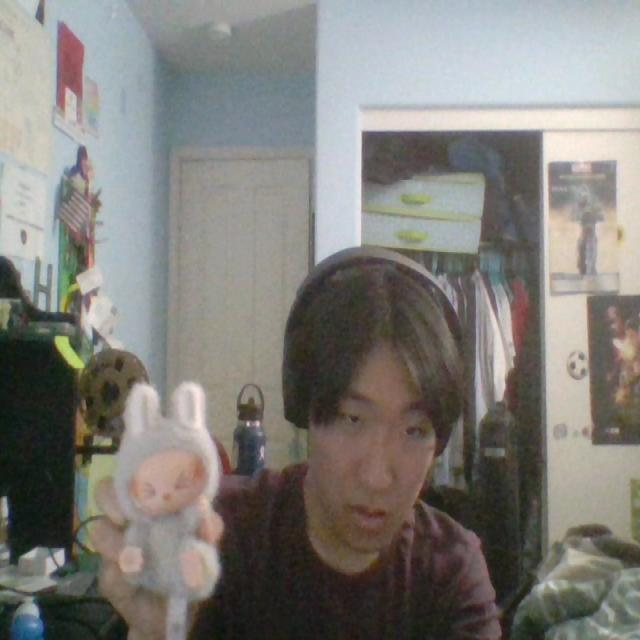labubu: (113, 381, 221, 596)
